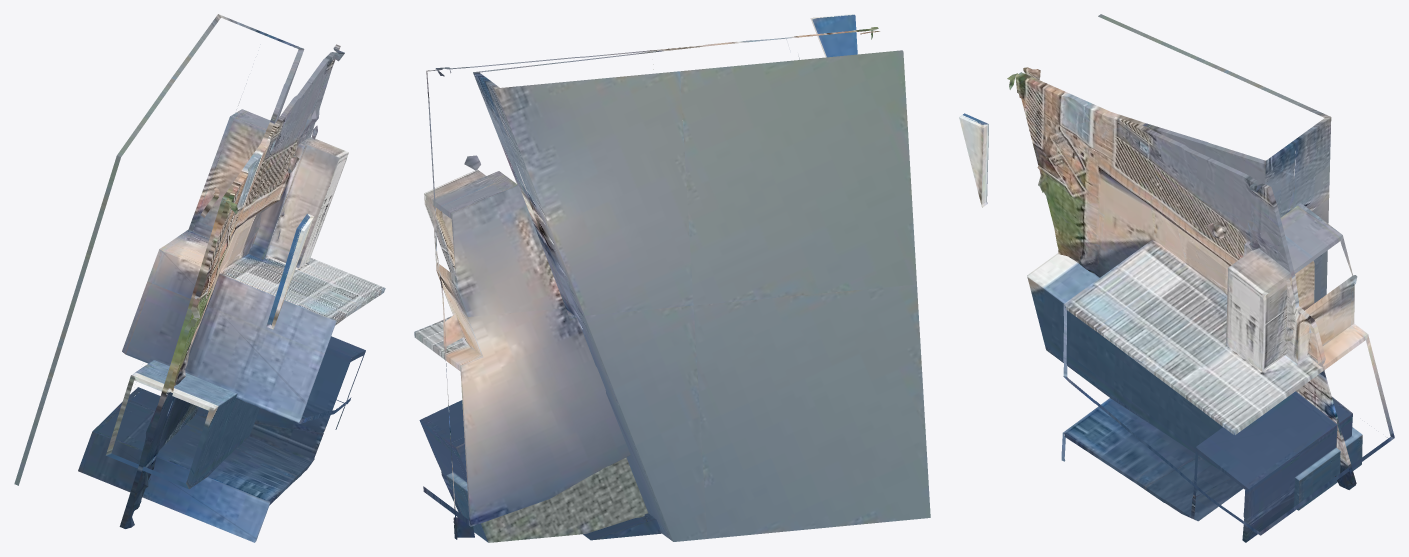
File: congresso_tile_195.glb
3 views of the same model, side by side, from view 1: azimuth 30°, elevation 25°; view 2: azimuth 150°, elevation 25°; view 3: azimuth 270°, elevation 25° (orthographic). The views are drawn at different scales.
Bounding box in the file's own units: 44.66 × 42.97 × 43.34.
Materials: 3 (3 with a texture image).
